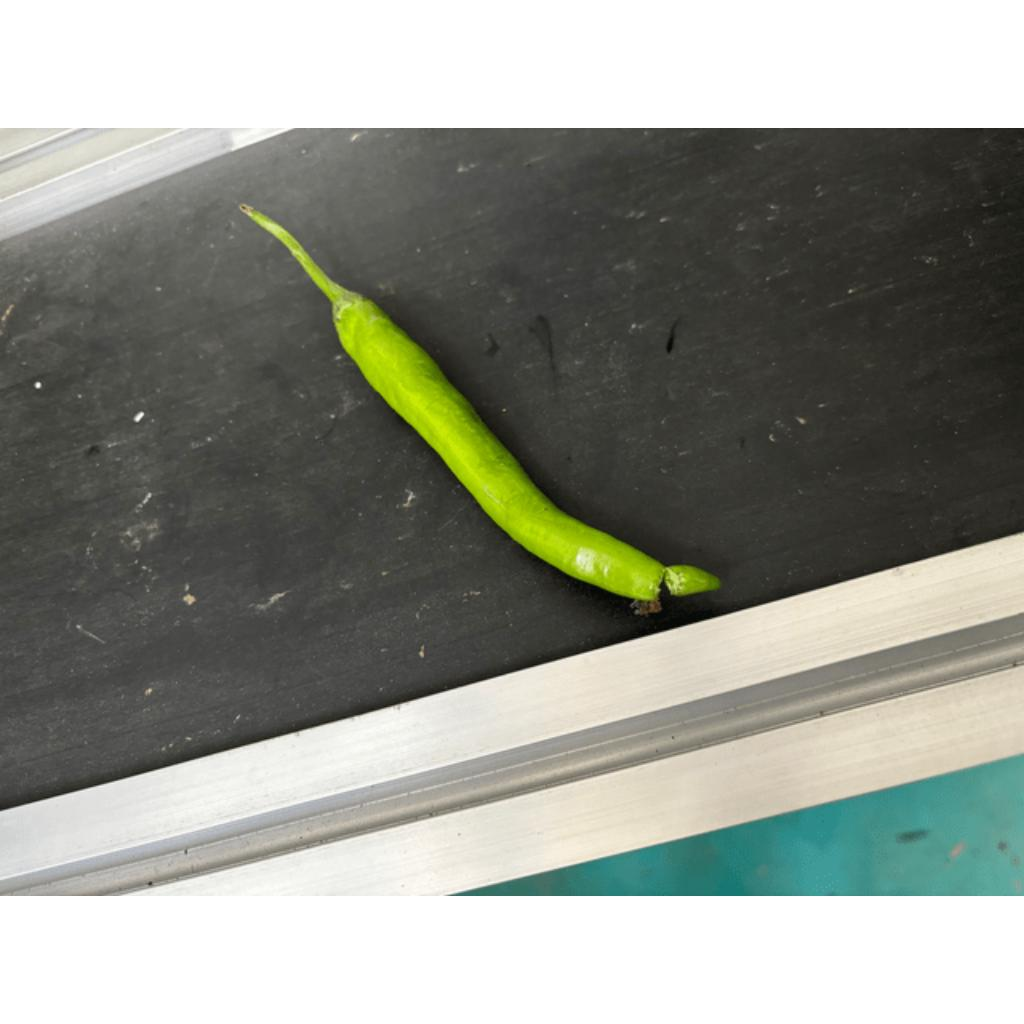chili: (329, 289, 728, 605)
